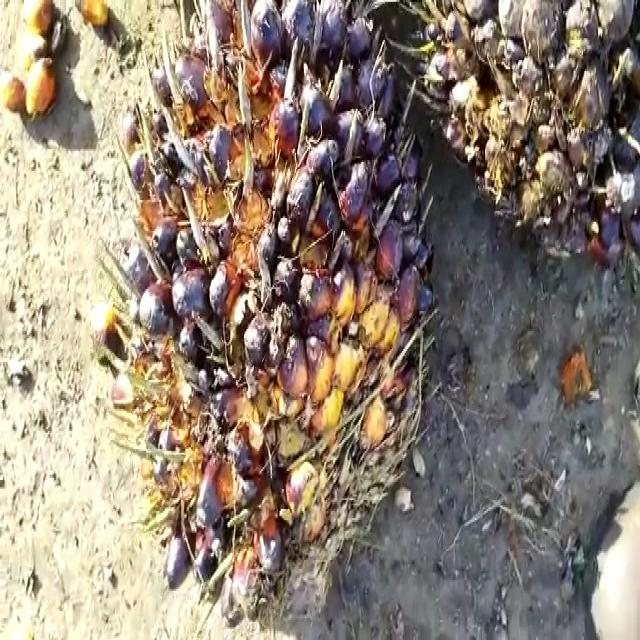palm oil: (128, 0, 437, 625)
